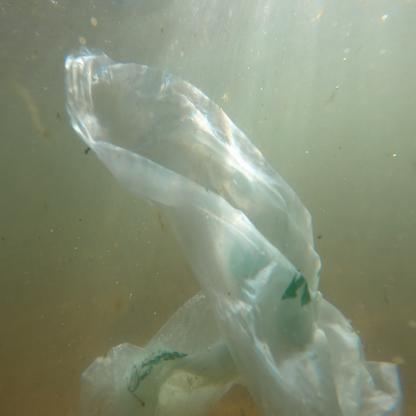Rác: (47, 32, 398, 415)
